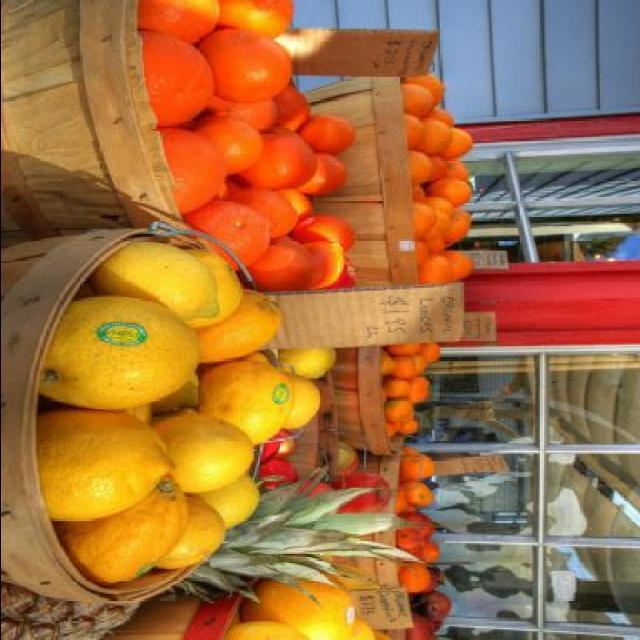Orange: (144, 26, 208, 132), (148, 128, 225, 214), (184, 202, 270, 266), (208, 27, 282, 99), (195, 115, 263, 173), (237, 136, 314, 187), (243, 247, 314, 296), (227, 187, 296, 233), (136, 0, 214, 40), (217, 0, 294, 37), (300, 116, 358, 152), (273, 85, 315, 126), (308, 152, 348, 190), (398, 78, 436, 114), (419, 119, 448, 152), (430, 179, 468, 203), (402, 566, 430, 597), (412, 201, 434, 239), (412, 152, 438, 184), (446, 210, 470, 244), (442, 134, 474, 158), (439, 166, 472, 188), (389, 378, 418, 402), (404, 486, 439, 504), (404, 108, 422, 142), (414, 458, 437, 482), (394, 532, 422, 550), (438, 206, 456, 230), (392, 361, 414, 379), (430, 112, 456, 124), (390, 403, 408, 420), (418, 343, 442, 354), (399, 422, 415, 436), (403, 346, 419, 351)
